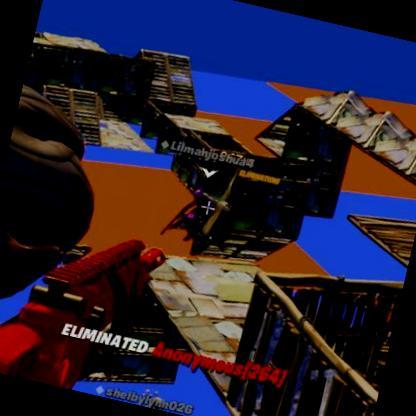person: (171, 184, 218, 252)
